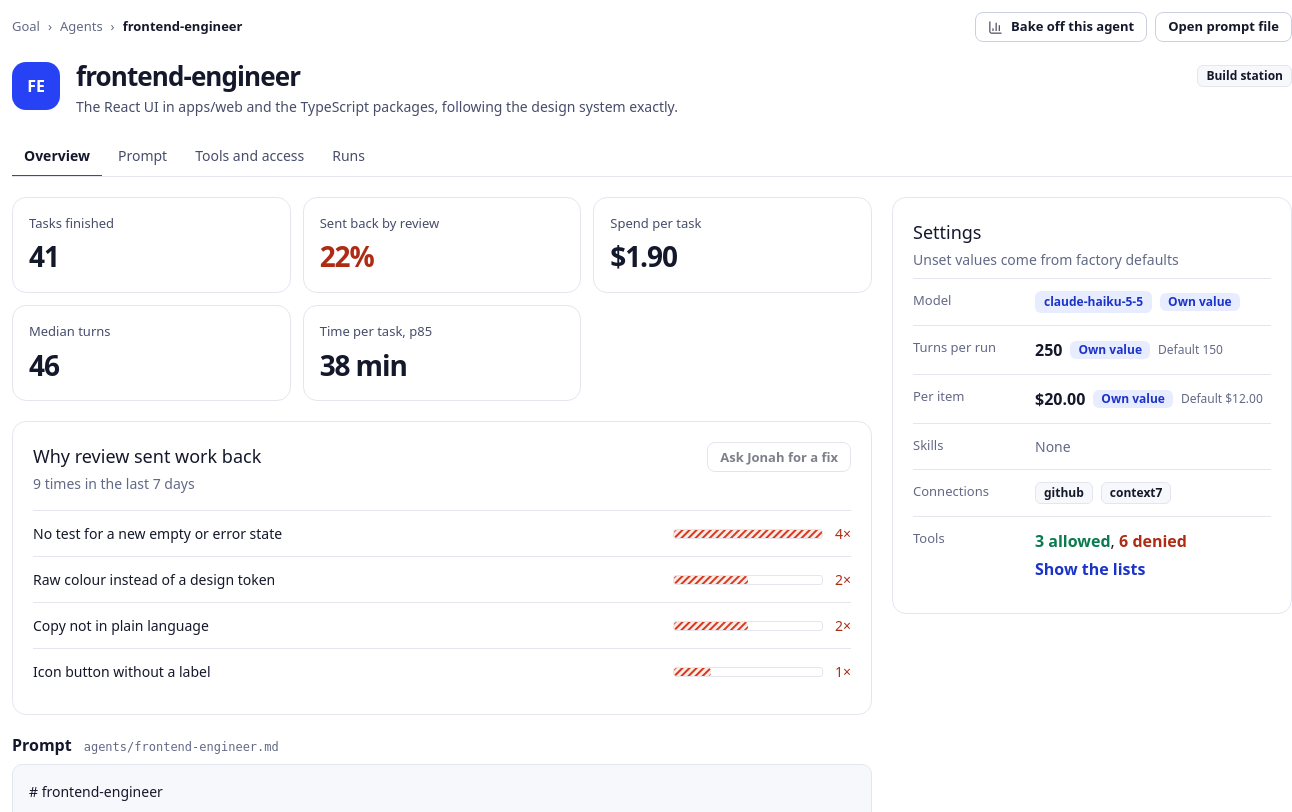
Scenario: Bake off this agent › shows another refusal in place with its detail
Check: the heading "frontend-engineer" is shown, box [76,58,300,94]
Click the button "Bake off this agent".
click(1061, 27)  # box [975,12,1147,42]
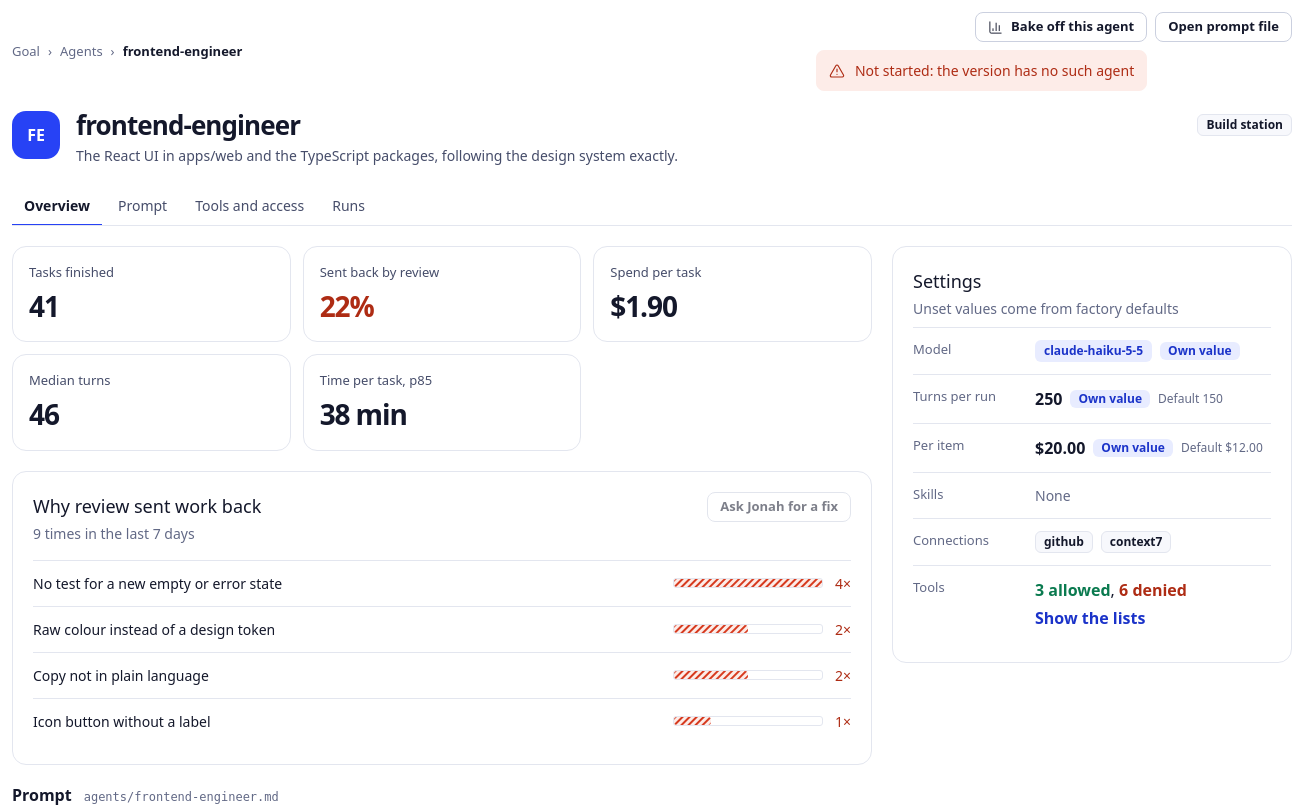
Check: the text "Not started: the version has no such agent" is shown, box [855,61,1134,80]
